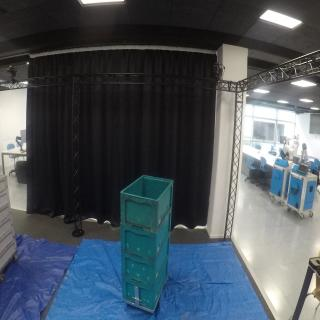BoxB4: (119, 177, 178, 228), (120, 222, 178, 253), (124, 277, 174, 311), (123, 251, 176, 282)
